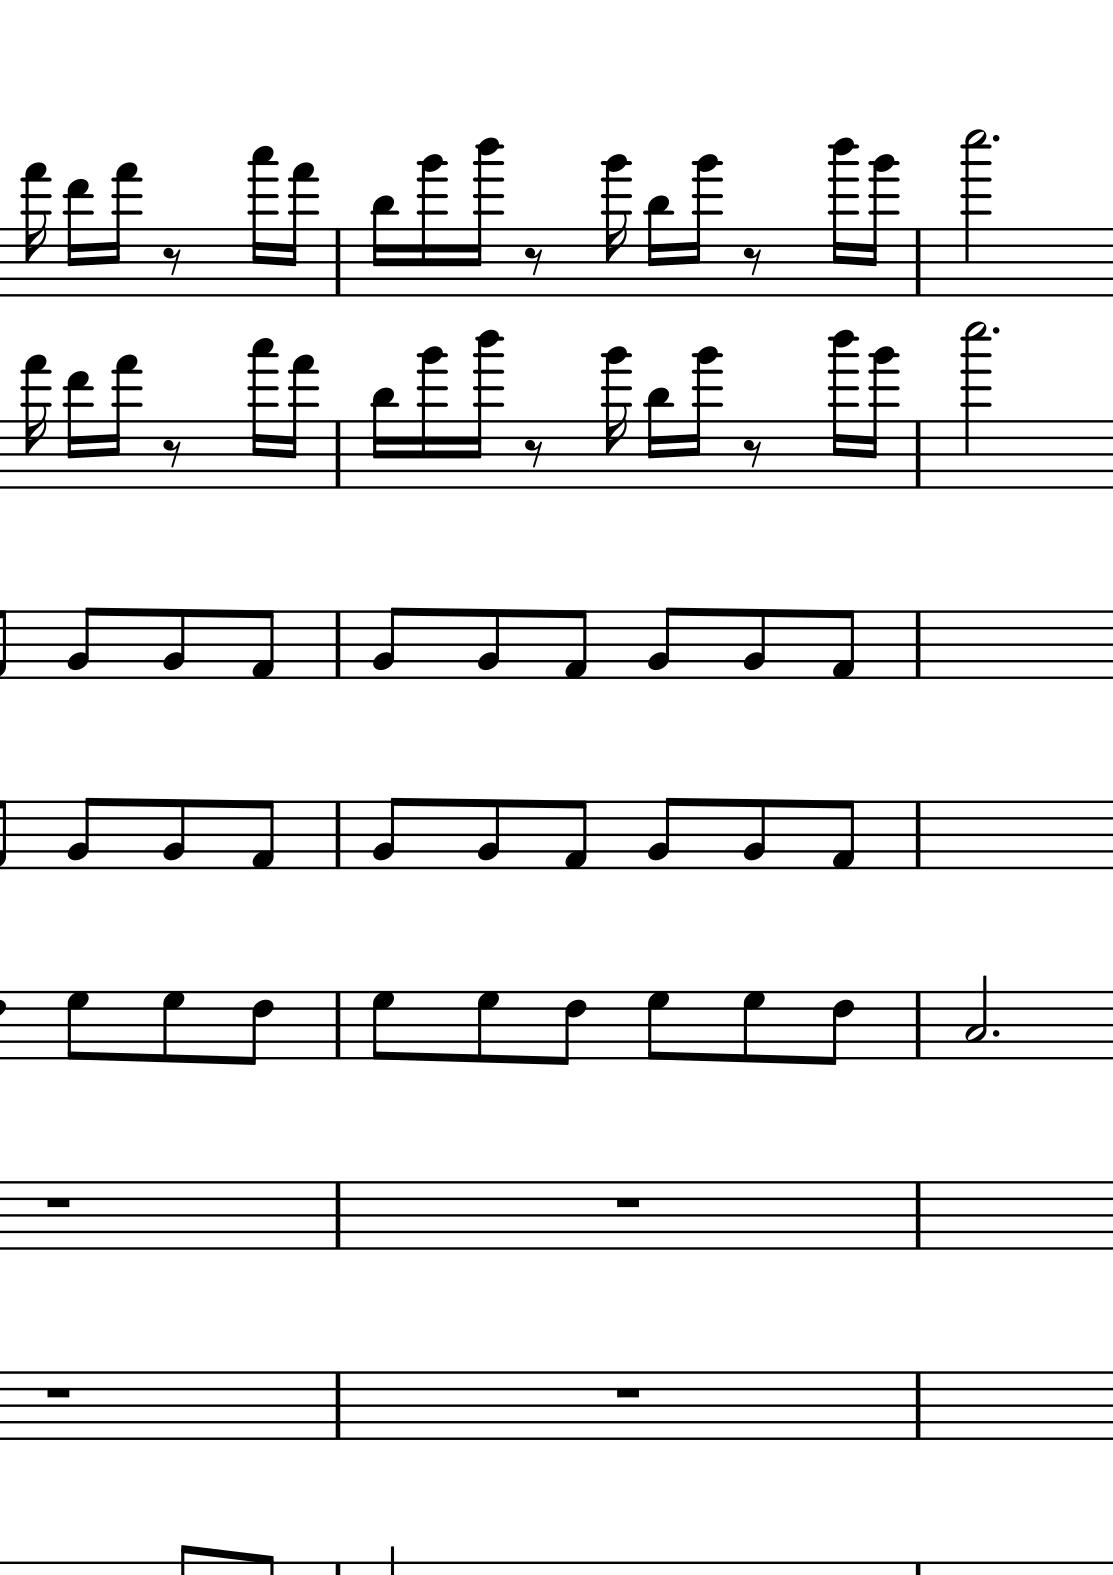16_11: (643, 383, 673, 492), (644, 191, 673, 299), (369, 387, 397, 490), (369, 195, 397, 297)
16_13: (63, 366, 92, 495), (63, 175, 92, 299)
16_15: (104, 353, 142, 489), (106, 163, 145, 297), (283, 352, 318, 489), (283, 161, 318, 297), (18, 161, 52, 297), (20, 354, 51, 491)
16_16: (682, 152, 722, 297), (416, 151, 449, 300), (416, 346, 449, 492), (599, 153, 632, 297), (599, 346, 632, 490), (866, 346, 899, 491), (866, 153, 899, 297)
16_17: (246, 144, 277, 297), (246, 336, 277, 489)
16_18: (465, 328, 503, 490), (466, 136, 505, 297), (825, 137, 858, 297), (826, 328, 859, 488)
2_19: (959, 320, 993, 492), (961, 126, 994, 297)
2_3: (962, 974, 990, 1062)
8_1: (248, 609, 276, 682), (561, 609, 589, 682), (829, 609, 856, 682), (248, 800, 276, 872), (561, 800, 589, 872), (829, 800, 856, 872), (255, 1553, 295, 1575)
8_16: (681, 343, 722, 490)
8_2: (646, 606, 679, 682), (66, 604, 99, 682), (371, 604, 404, 682), (371, 795, 404, 872), (646, 796, 678, 872), (66, 796, 99, 871), (741, 607, 767, 682), (741, 797, 767, 871), (475, 798, 501, 871), (476, 608, 501, 682), (161, 607, 185, 682), (161, 798, 185, 871)
8_4: (173, 1544, 202, 1575)
8_6: (552, 989, 587, 1069), (820, 989, 855, 1069), (238, 989, 273, 1068)
8_7: (159, 990, 187, 1066), (64, 989, 92, 1063), (475, 990, 501, 1066), (741, 990, 767, 1066), (370, 989, 396, 1062), (646, 989, 671, 1062)
Rests1: (41, 1384, 73, 1403), (42, 1193, 73, 1213), (612, 1193, 643, 1213), (611, 1384, 643, 1402)
Rests8: (160, 244, 184, 277), (522, 244, 544, 277), (742, 244, 765, 277), (160, 437, 183, 470), (522, 437, 544, 470), (741, 437, 764, 468)
Single_barline: (326, 802, 349, 869), (907, 802, 930, 868), (906, 1182, 929, 1249), (326, 1373, 349, 1439), (906, 1373, 929, 1439), (326, 1182, 349, 1247), (907, 610, 929, 678), (326, 612, 348, 678), (328, 993, 349, 1058), (328, 421, 347, 488), (908, 993, 927, 1058), (328, 231, 347, 295), (909, 230, 927, 296), (909, 421, 927, 486)
dot: (989, 324, 1002, 337), (989, 132, 1002, 144), (990, 1028, 1002, 1040)
